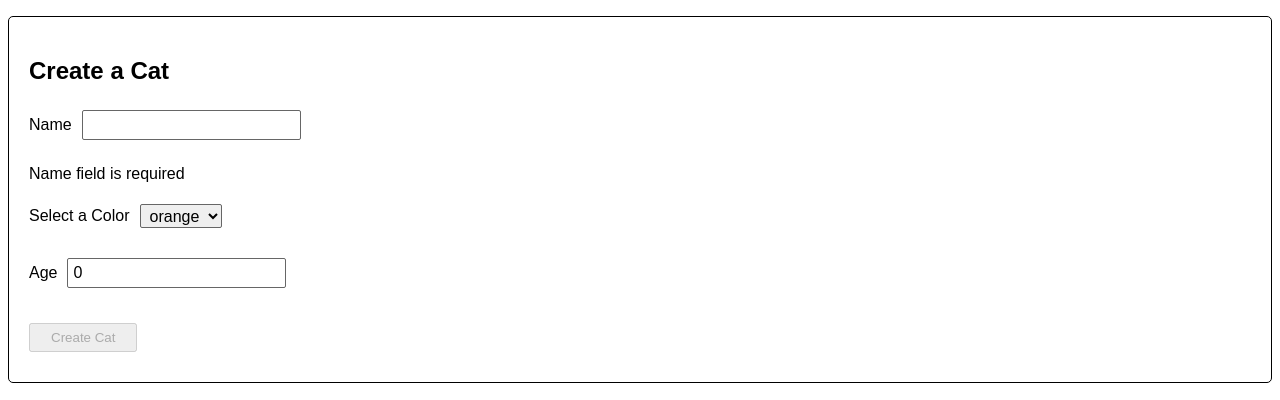
Test: (14 points) CatForm › (4 points) should have a controlled input for Name that shows a "Name field is required" error (only) when name is blank
Check: the text "Name field is required" is shown, box x1=29 y1=165 x2=185 y2=182
# Error should disappear as user types
Type "C" into the field labelled "Name". click: (191, 125)
box: x1=82 y1=110 x2=301 y2=140
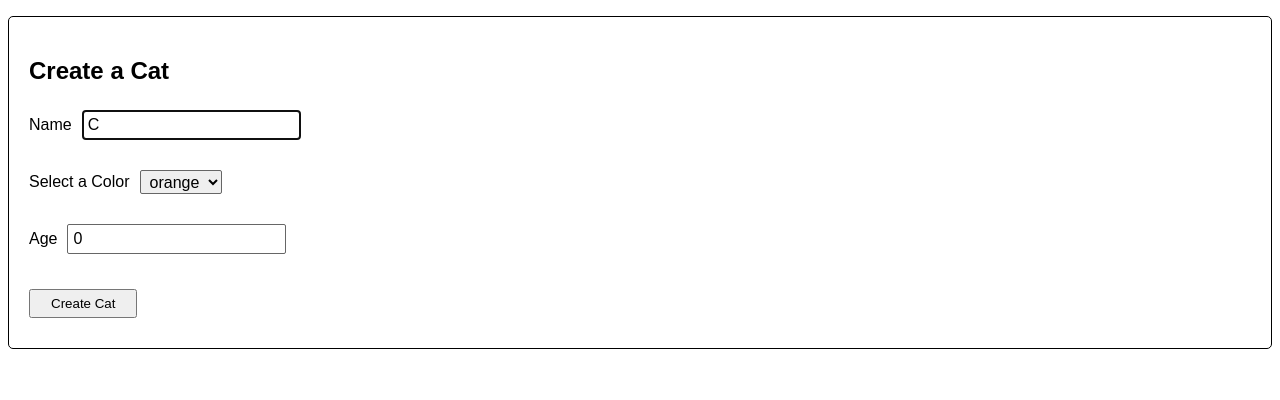
Check: the text "Name field is required" is gone
